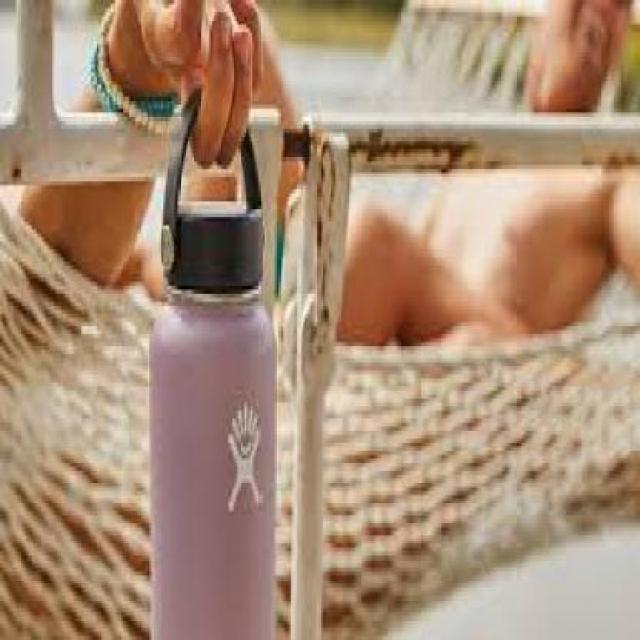Drinking: (156, 76, 284, 636)
